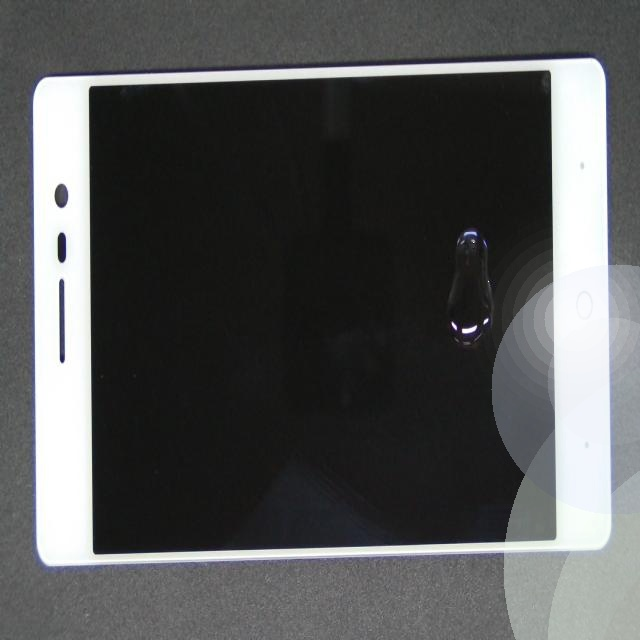oil: (242, 63, 640, 403)
